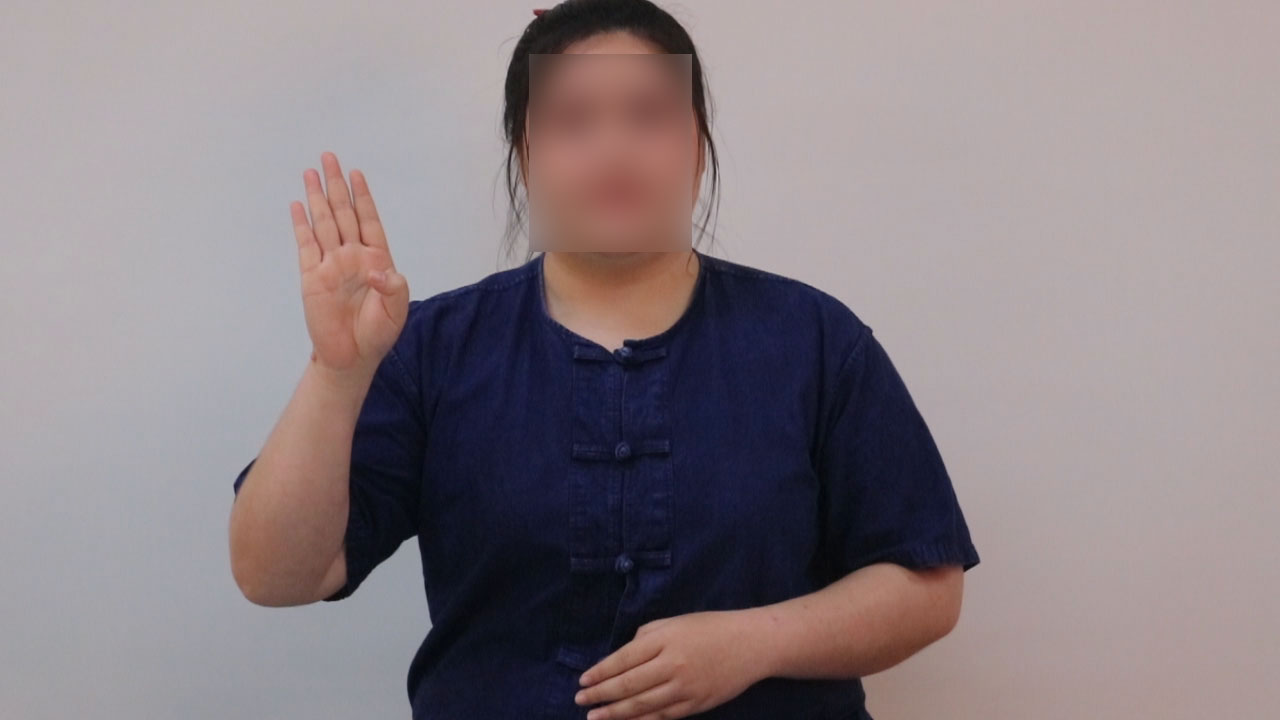bor: (264, 131, 431, 401)
